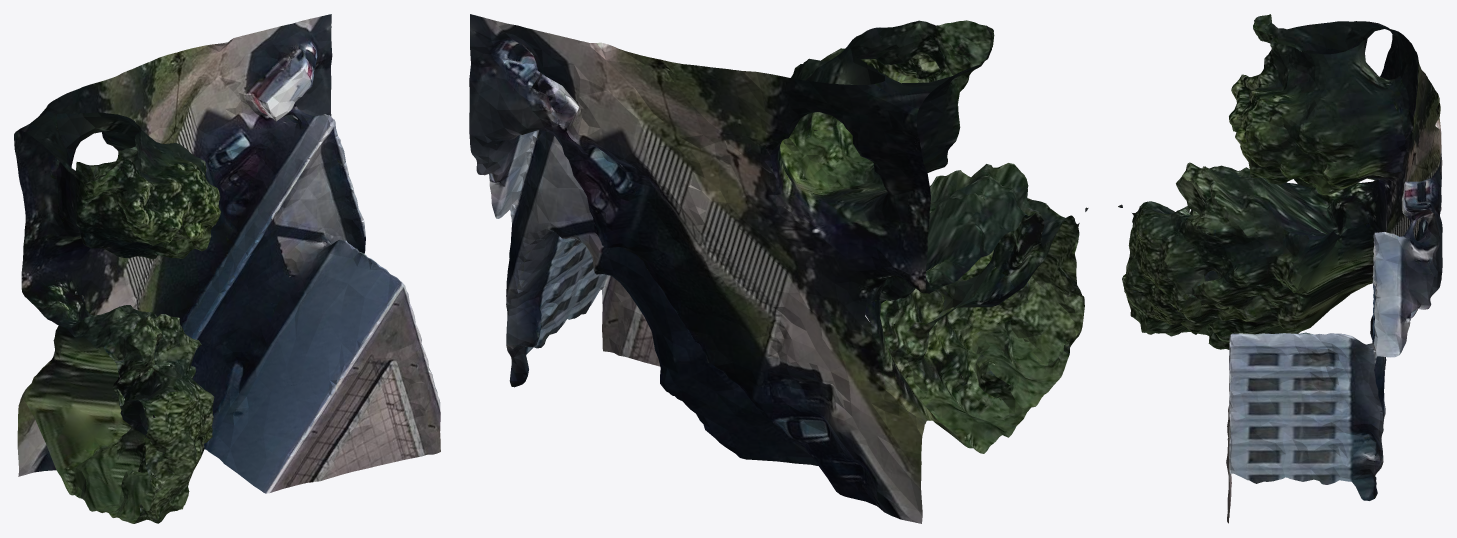
File: Tile_+032_+024_L21_00000100.obj
The picture shows the model from 3 angles, left to right: view 1: azimuth 30°, elevation 25°; view 2: azimuth 150°, elevation 25°; view 3: azimuth 270°, elevation 25°; orthographic projection. The views are drawn at different scales.
Size of the model in its own units: 31.38 by 31.31 by 26.57.
Materials: 1 (1 with a texture image).
